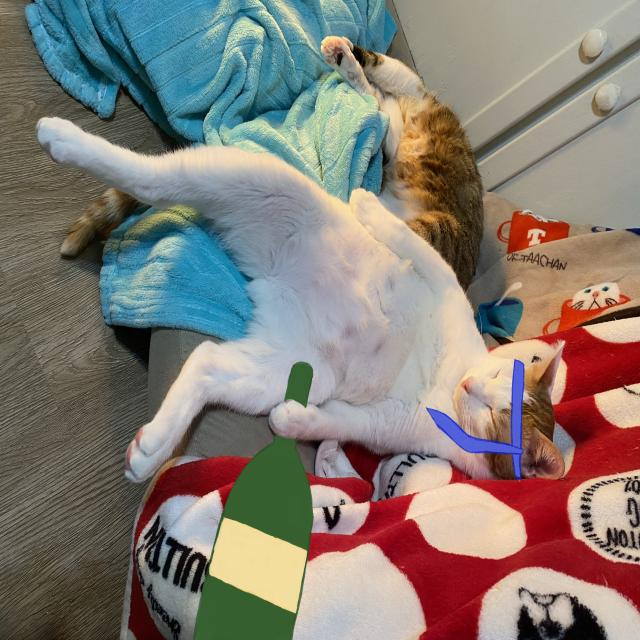cat1: (27, 112, 568, 490)
cat2: (319, 27, 488, 302)
